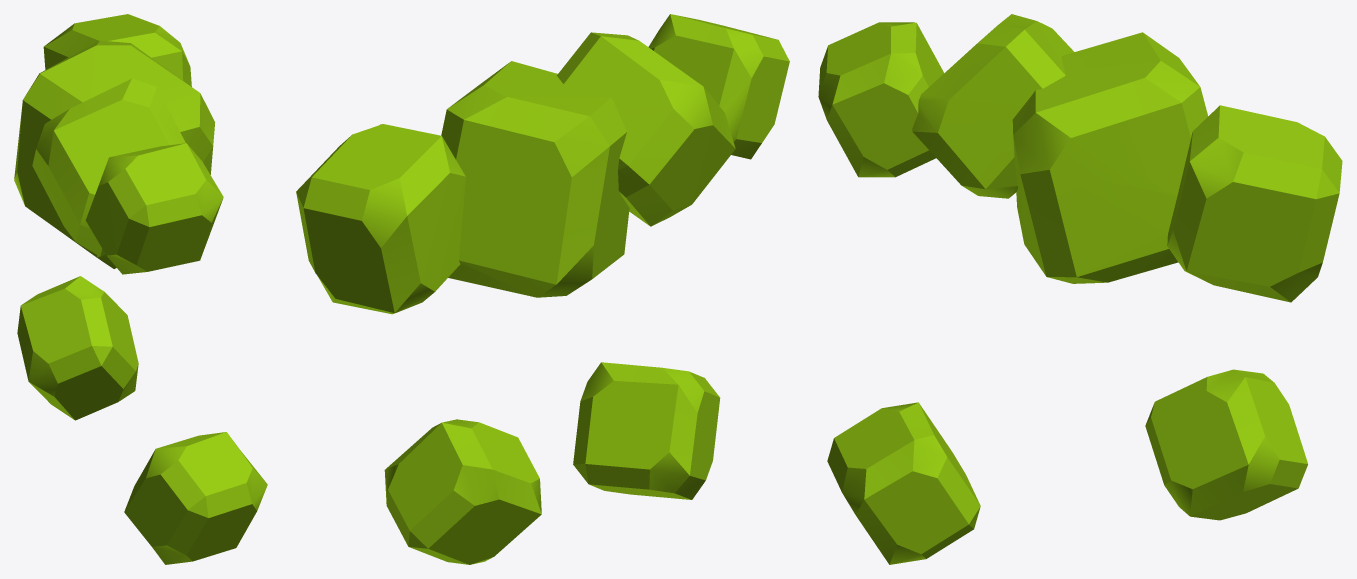
The model's file is tree_big_boxy_bevel_4.fbx.
3 renders of one model, left to right at view 1: azimuth 30°, elevation 25°; view 2: azimuth 150°, elevation 25°; view 3: azimuth 270°, elevation 25°, orthographic. The views are drawn at different scales.
Visible parts, largest first — view 1: tree_big_boxy_bevel_4; view 2: tree_big_boxy_bevel_4; view 3: tree_big_boxy_bevel_4.
Boxes of the visible parts, <box> form: tree_big_boxy_bevel_4: <box>14,14,267,564</box>; tree_big_boxy_bevel_4: <box>296,14,789,564</box>; tree_big_boxy_bevel_4: <box>818,14,1342,564</box>.
Bounding box in the file's own units: 143 × 261 × 242.
